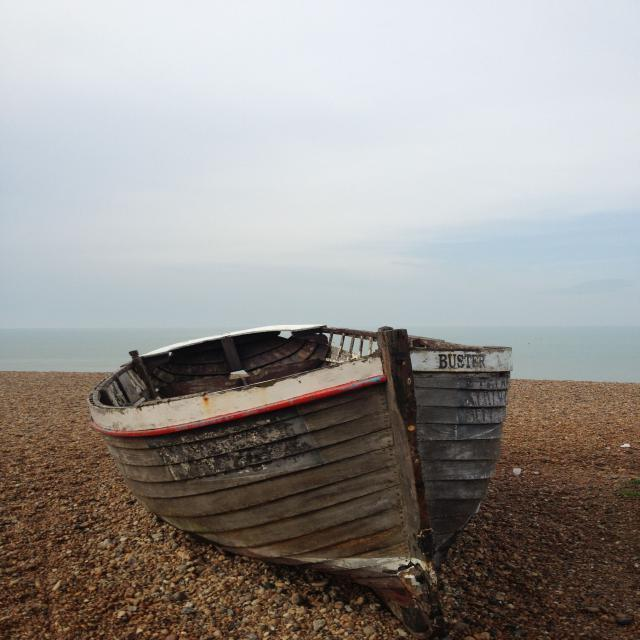ship: (80, 321, 532, 640)
